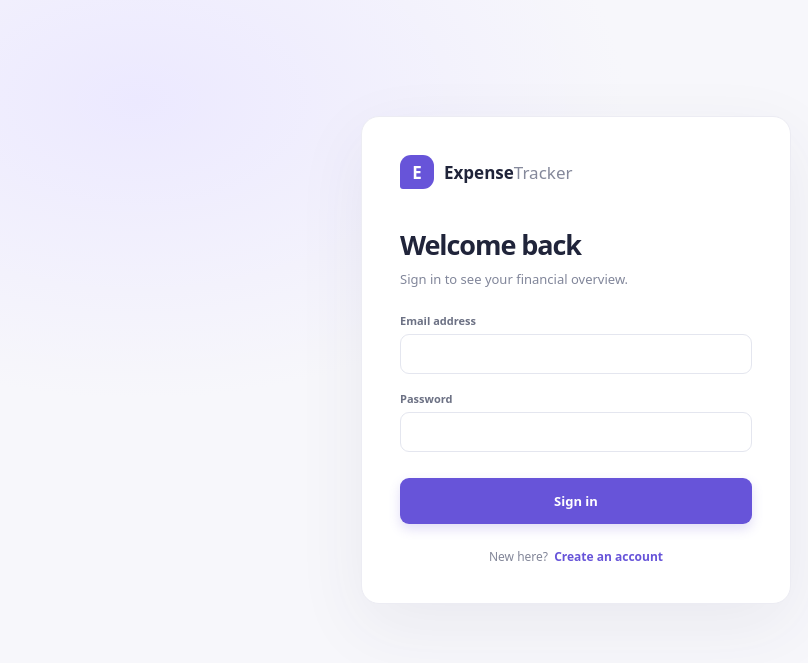
Scenario: authentication pages › shows login failures accessibly and allows another attempt
Type "person@example.com" into the field labelled "Email address".
click(576, 354); type("person@example.com")  # box [400,334,752,374]
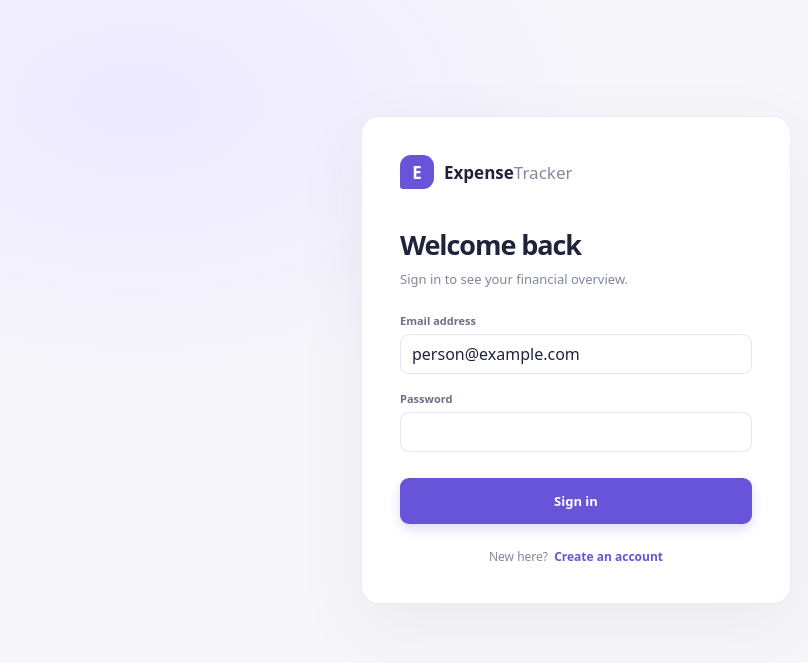
Type "bad-password" into the password field labelled "Password".
click(576, 432); type("bad-password")  # box [400,412,752,452]
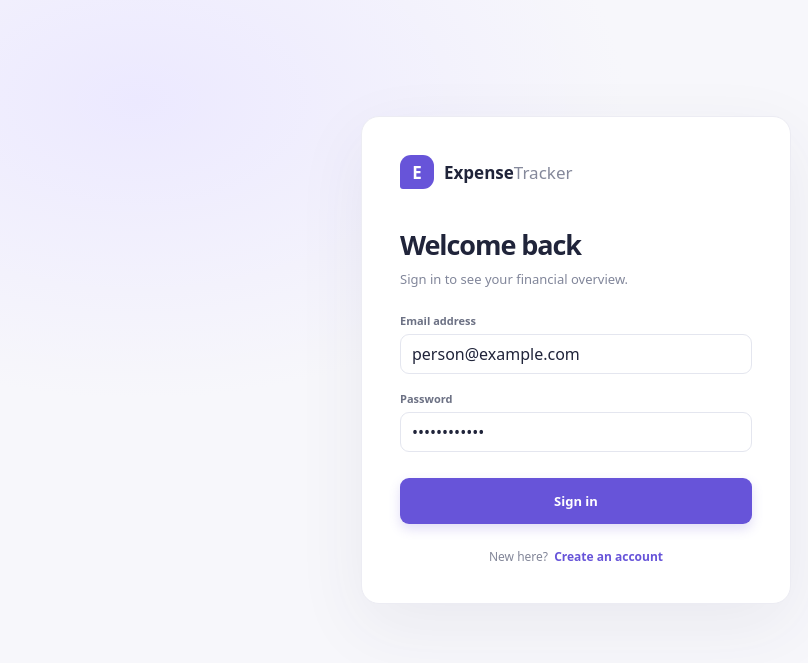
Click the button "Sign in".
click(576, 501)  # box [400,478,752,524]
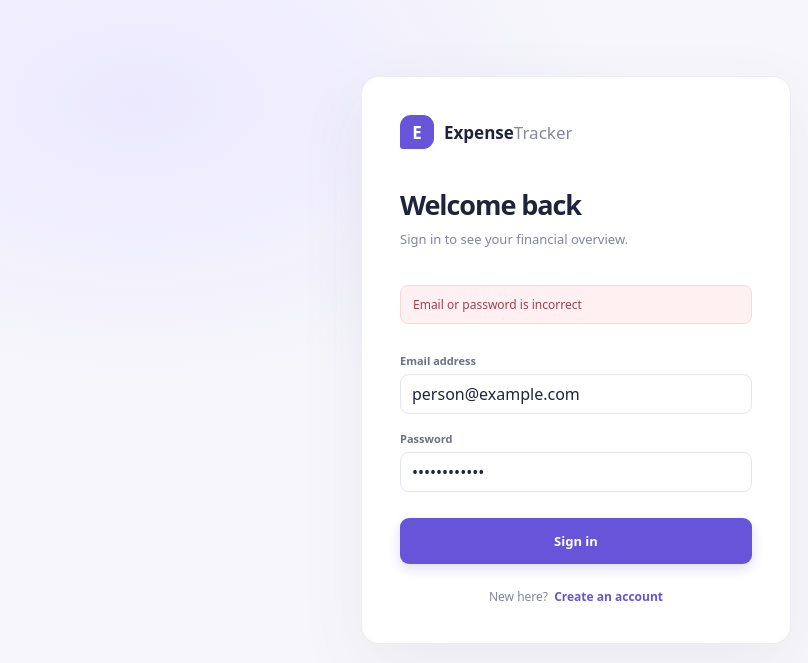
expect the button "Sign in" is enabled: met, box [400,518,752,564]
expect the message reads "Email or password is incorrect": met, box [413,296,582,313]
